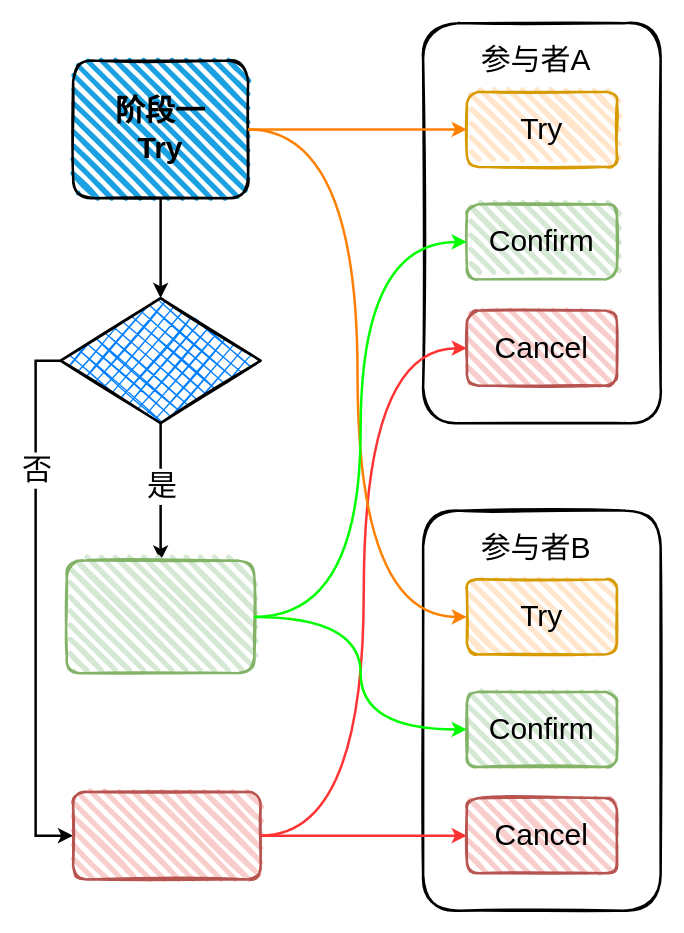
This 684x933 diagram has some shape labels left out. Each missing label, with the centre of its shape:
"是否全部 执行成功" belongs at point 160,360.
"阶段二 Cancel" belongs at point 166,835.
"阶段二Confirm" belongs at point 160,616.
